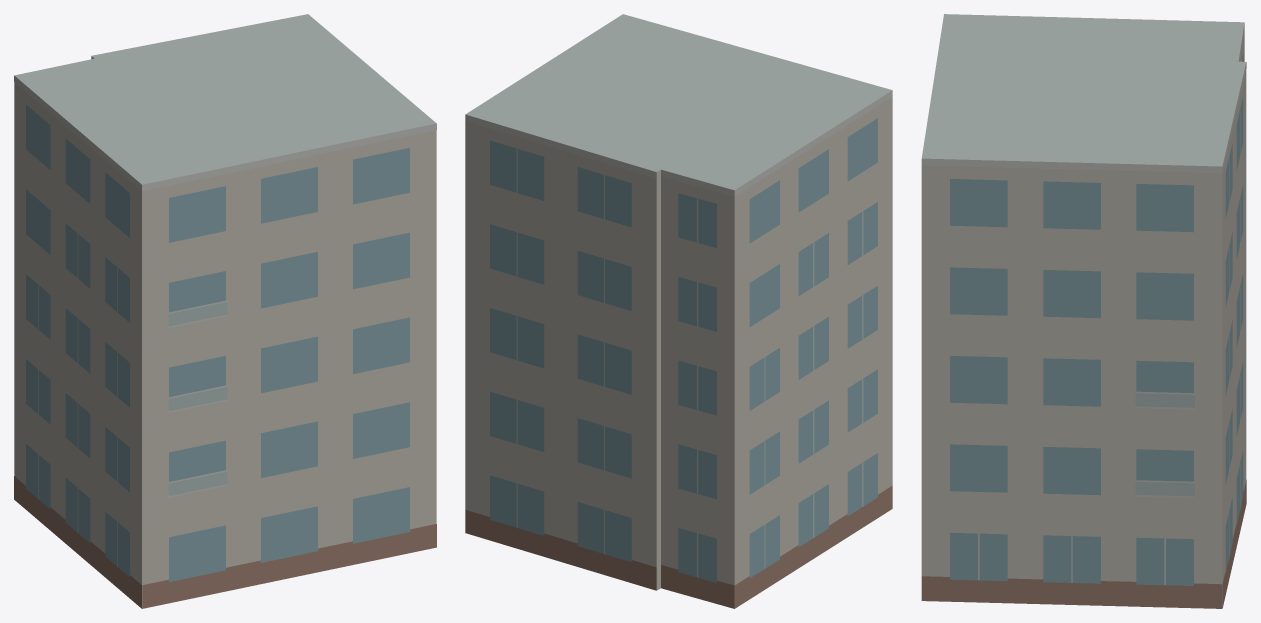
File: survey-upis-32752494.glb
3 renders of one model, left to right at view 1: azimuth 30°, elevation 25°; view 2: azimuth 150°, elevation 25°; view 3: azimuth 270°, elevation 25°, orthographic. The views are drawn at different scales.
Visible parts, largest first — view 1: survey-upis-32752494.tmp; view 2: survey-upis-32752494.tmp; view 3: survey-upis-32752494.tmp.
Part boxes in pixels (x1,y1,x2,y2): survey-upis-32752494.tmp: (14, 14, 436, 608); survey-upis-32752494.tmp: (465, 14, 892, 608); survey-upis-32752494.tmp: (921, 14, 1246, 608).
Bounding box in the file's own units: 11.76 × 15.9 × 10.59.
